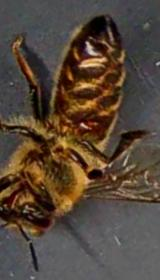varroa_mite: (70, 111, 104, 140)
